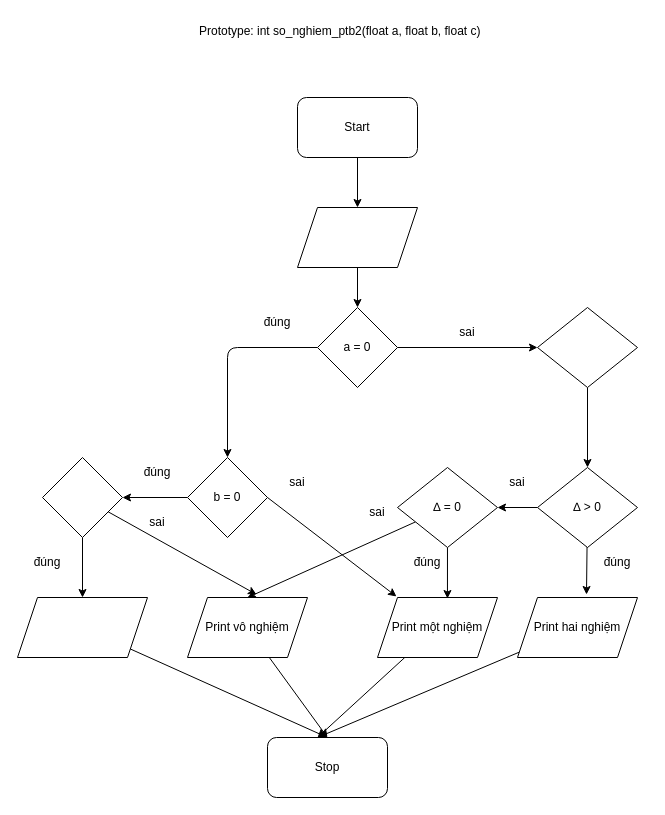
The diagram is 665 pixels wide and 815 high, and some of its shapes have lost their labels. Each missing label, with the centre of its shape:
"c = 0" belongs at [82,497].
"Input a,b,c" belongs at [357,237].
"Print vô số nghiệm" belongs at [82,627].
"∆ <- b^2- 4ac" belongs at [587,347].
